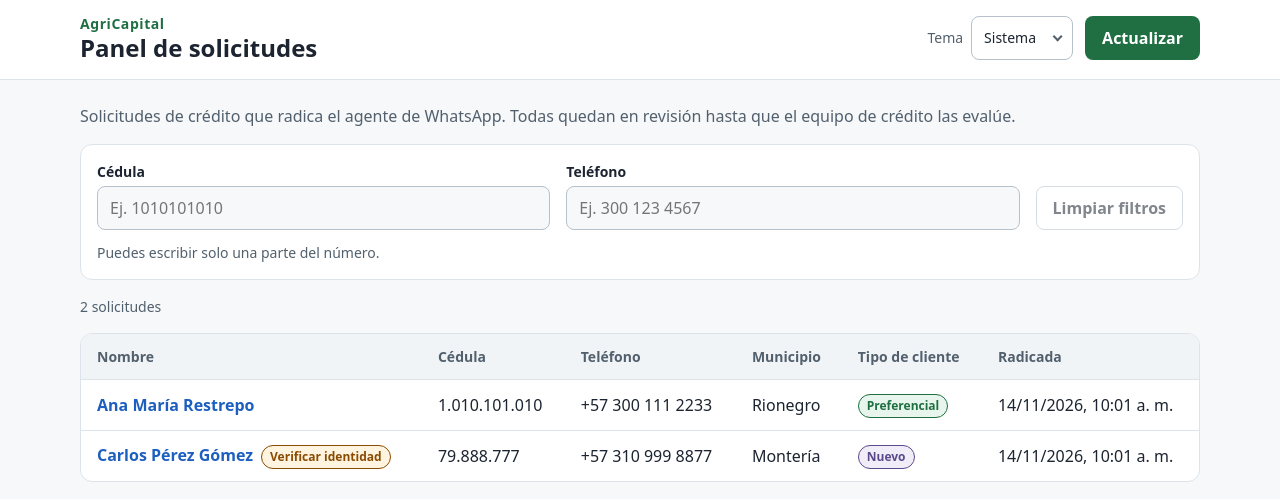
Test: Panel de solicitudes › filtra por cédula mientras se escribe, con una sola petición al terminar
Expected: the table is shown, 81,334 -> 1199,481
In the search field labelled "Cédula": (324, 208) 97,186 -> 550,230, type "1.010"
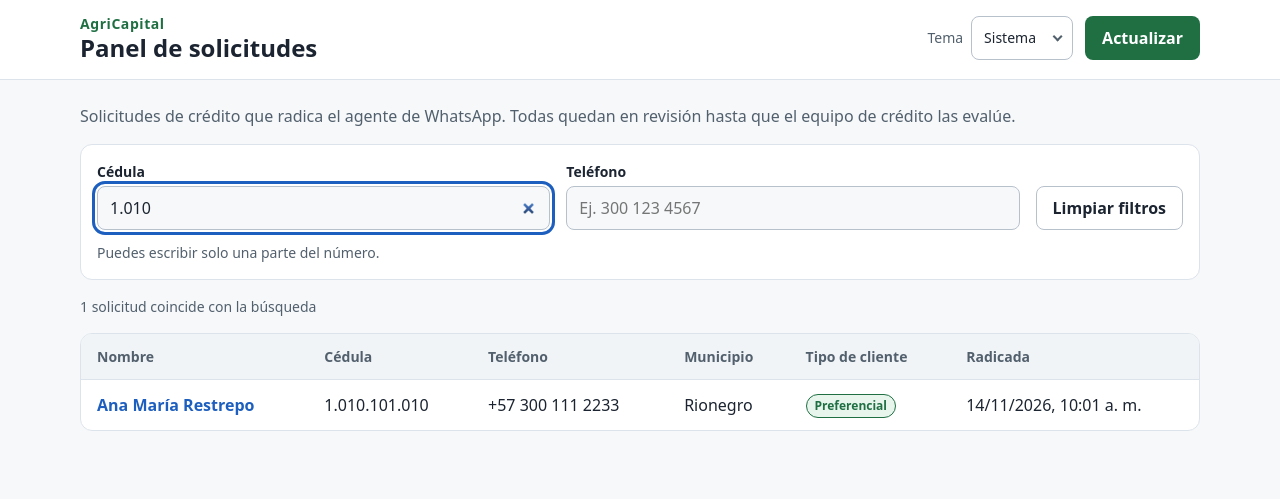
Expected: the text "1 solicitud coincide con la búsqueda" is shown, 80,297 -> 316,316
